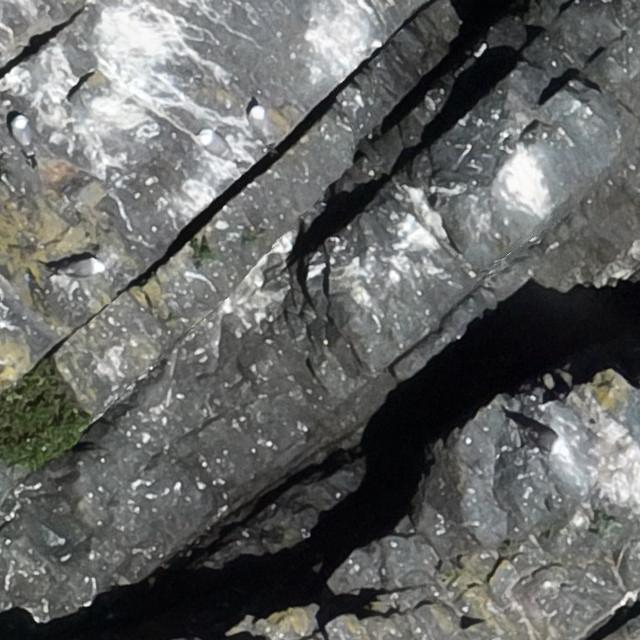umineko: (523, 418, 565, 455), (200, 130, 236, 160), (12, 116, 32, 150), (65, 259, 102, 277), (251, 108, 267, 133)
